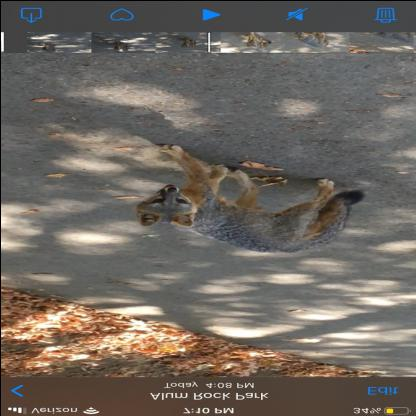zorro: (127, 140, 372, 259)
